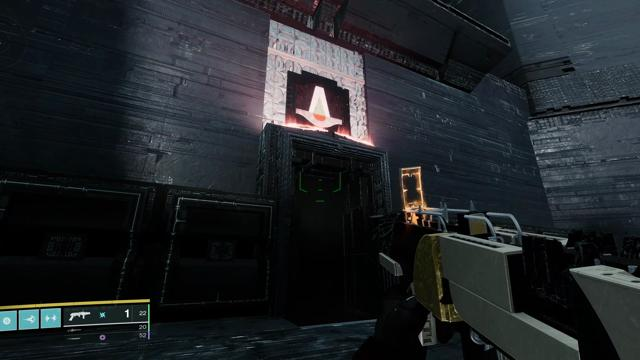enter: (296, 83, 343, 127)
